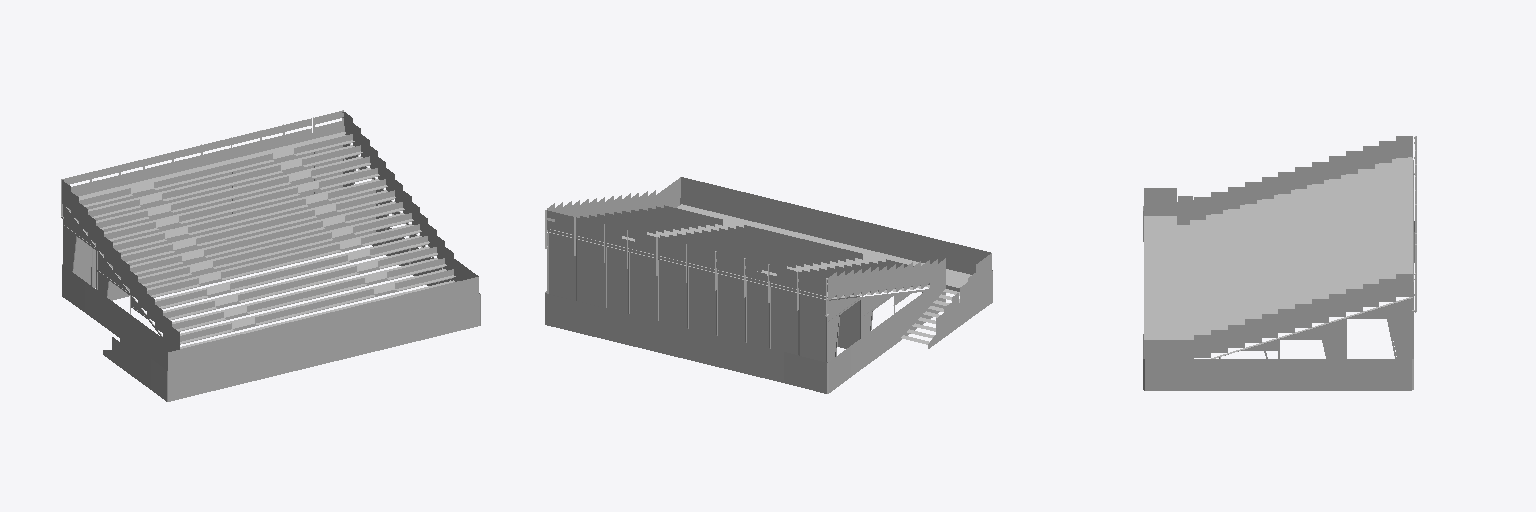
The model's file is generic medium.obj.
The picture shows the model from 3 angles: view 1: azimuth 30°, elevation 25°; view 2: azimuth 150°, elevation 25°; view 3: azimuth 270°, elevation 25°; orthographic projection.
Parts seen in each view (by area): view 1: Node_013_mel_grandstand_genericmedium_a_physics_!bk; view 2: Node_013_mel_grandstand_genericmedium_a_physics_!bk; view 3: Node_013_mel_grandstand_genericmedium_a_physics_!bk.
Boxes of the visible parts, box(x1,y1,x2,y2) form: Node_013_mel_grandstand_genericmedium_a_physics_!bk: box(61, 110, 480, 401); Node_013_mel_grandstand_genericmedium_a_physics_!bk: box(545, 177, 992, 393); Node_013_mel_grandstand_genericmedium_a_physics_!bk: box(1143, 136, 1416, 390).
Size of the model in its own units: 23.67 by 8.38 by 17.87.